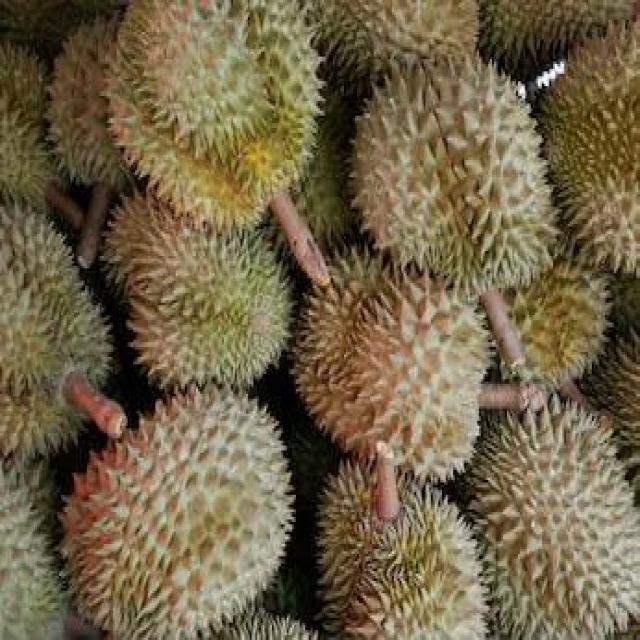mature: (292, 248, 490, 480)
